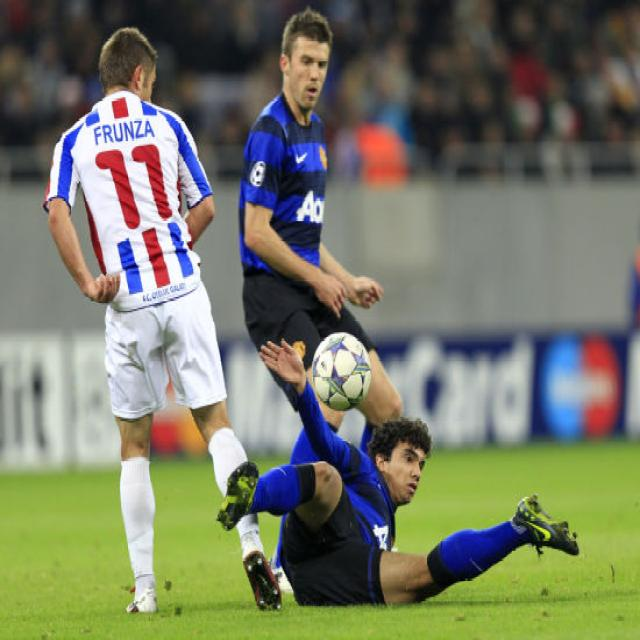10-: (2, 1, 634, 618)
down: (199, 318, 585, 611)
